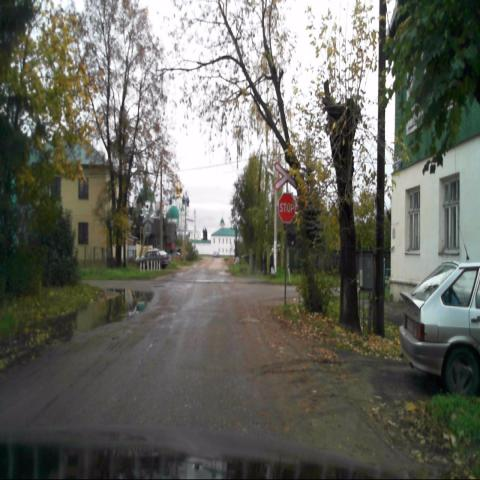2_5: (279, 194, 295, 224)
